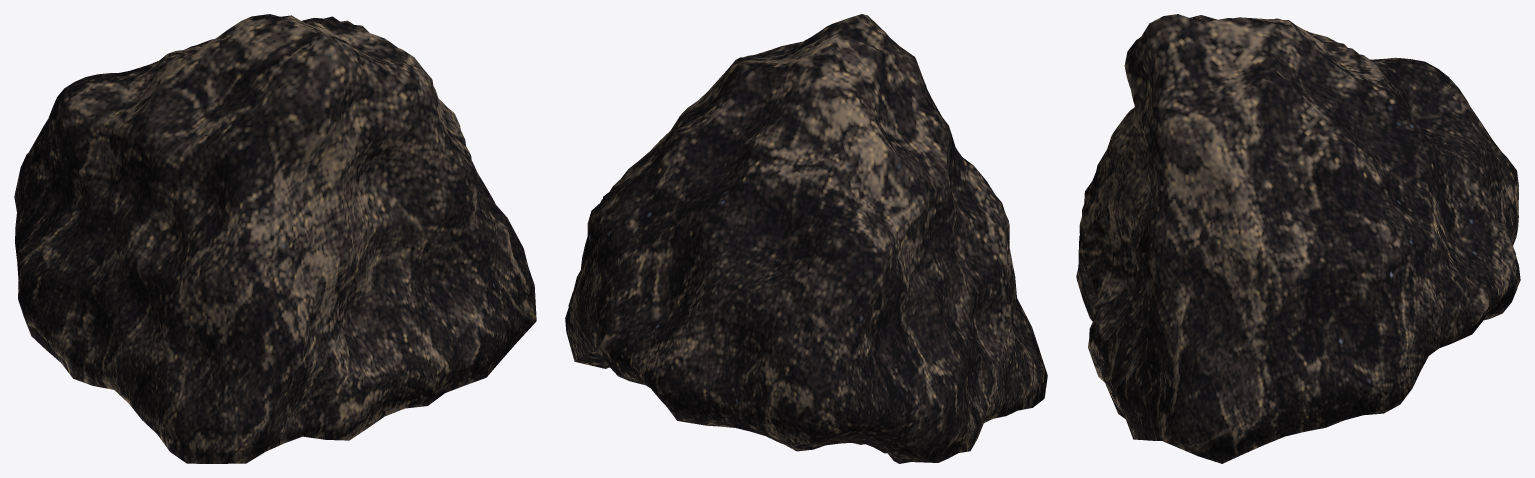
File: SM_Rock_001.fbx
3 views of the same model, side by side, from view 1: azimuth 30°, elevation 25°; view 2: azimuth 150°, elevation 25°; view 3: azimuth 270°, elevation 25° (orthographic).
Visible parts, largest first — view 1: rock.001; view 2: rock.001; view 3: rock.001.
Part boxes in pixels (x1,y1,x2,y2): rock.001: (14, 14, 536, 463); rock.001: (565, 14, 1047, 463); rock.001: (1076, 14, 1520, 463).
Size of the model in its own units: 3.11 by 2.84 by 2.67.
